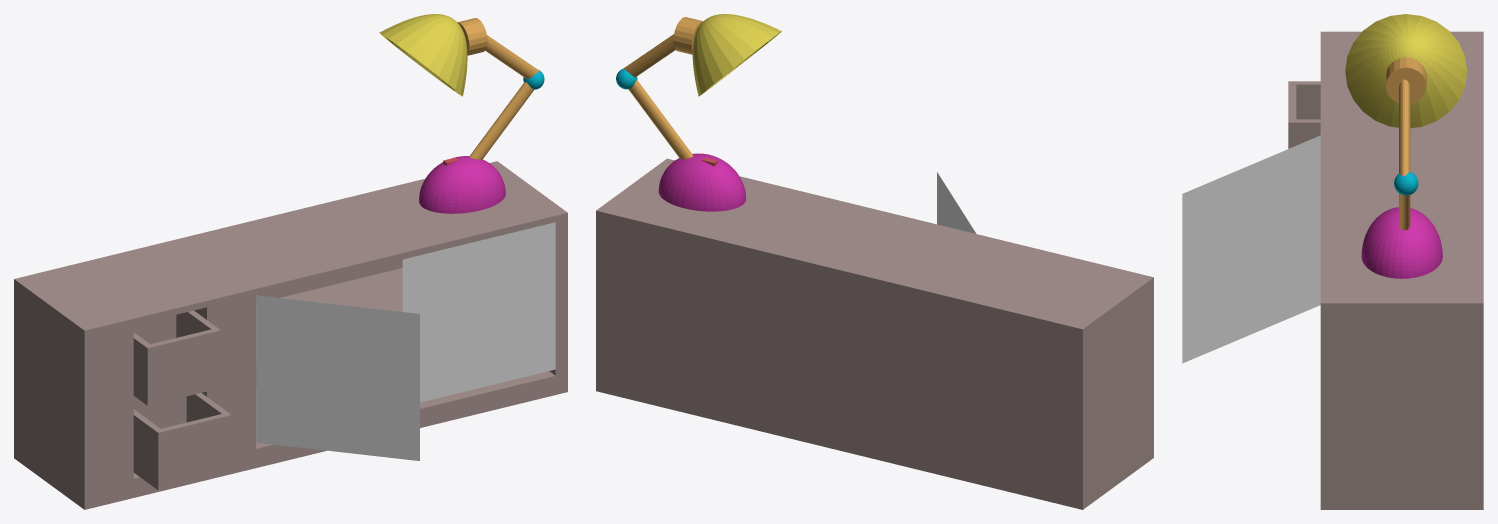
The model's file is table.glb.
3 renders of one model, left to right at view 1: azimuth 30°, elevation 25°; view 2: azimuth 150°, elevation 25°; view 3: azimuth 270°, elevation 25°, orthographic. The views are drawn at different scales.
Visible parts, largest first — view 1: Mesh_Mesh_head_geo.001_lambert2SG.001; view 2: Mesh_Mesh_head_geo.001_lambert2SG.001; view 3: Mesh_Mesh_head_geo.001_lambert2SG.001.
Boxes of the visible parts, x1,y1,x2,y2 form: Mesh_Mesh_head_geo.001_lambert2SG.001: [14, 14, 567, 509]; Mesh_Mesh_head_geo.001_lambert2SG.001: [596, 14, 1153, 509]; Mesh_Mesh_head_geo.001_lambert2SG.001: [1182, 14, 1483, 509].
Bounding box in the file's own units: 81 × 57.95 × 37.
